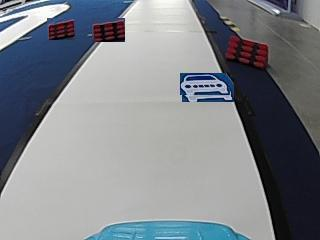bomb: (225, 35, 269, 68)
